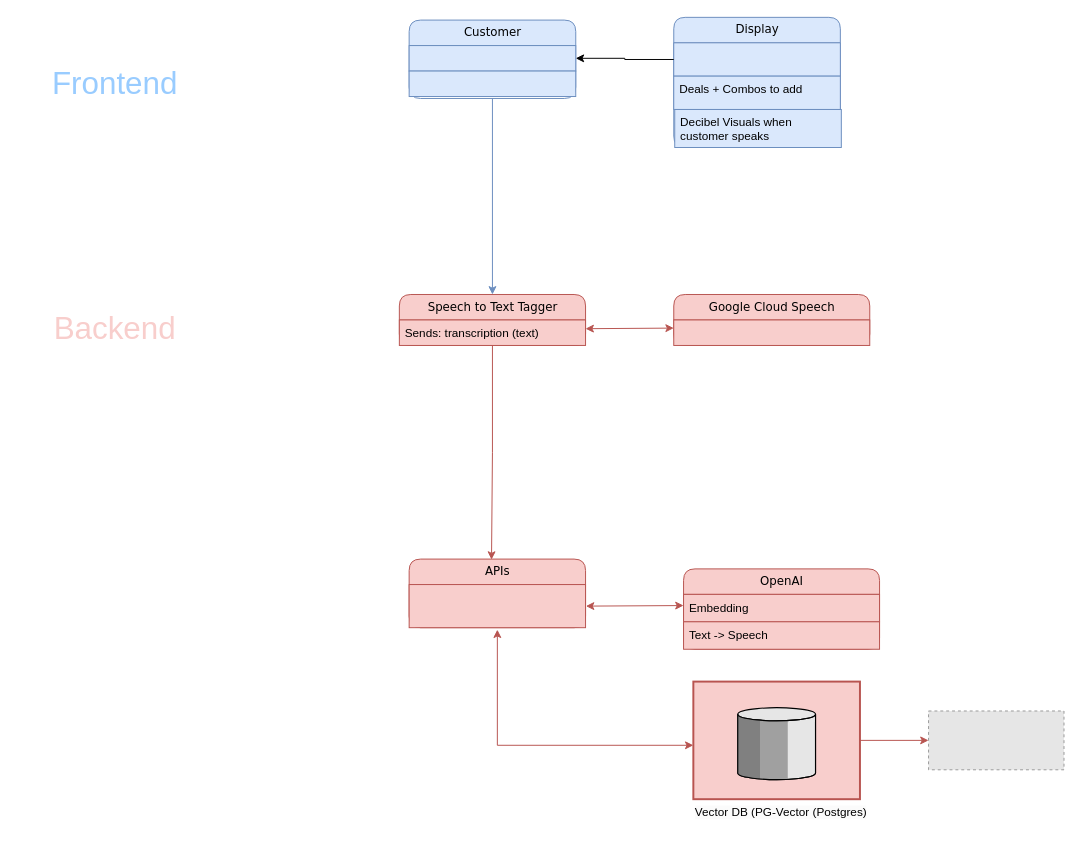
Some shapes in this 1081 by 856 pixel diagram are drawn without their labels. Grey dashed boxes stand in for pictures. Each missing label, with the centre of its shape:
"Converts speech to text" goes at pixel 771 332.
"Display current order" goes at pixel 756 59.
"Sends: item price (double) + Top K Deals (audio)" goes at pixel 497 606.
"Sends: order request (audio)" goes at pixel 492 83.
"Type: Speech" goes at pixel 492 58.
